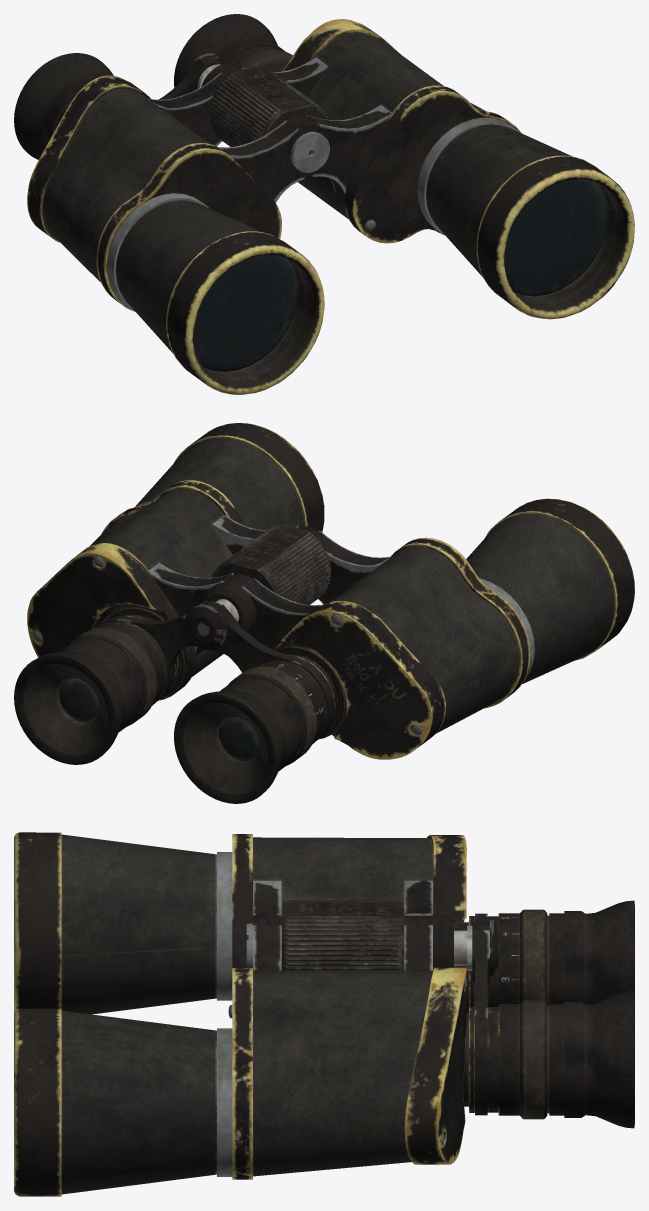
The model's file is vintage_binocular.glb.
The picture shows the model from 3 angles, top to bottom: view 1: azimuth 30°, elevation 25°; view 2: azimuth 150°, elevation 25°; view 3: azimuth 270°, elevation 25°; orthographic projection. The views are drawn at different scales.
Parts seen in each view (by area): view 1: vintage_binocular_left_lens; view 2: vintage_binocular_left_lens; view 3: vintage_binocular_left_lens.
Boxes of the visible parts, x1,y1,x2,y2 form: vintage_binocular_left_lens: (14, 14, 634, 394); vintage_binocular_left_lens: (14, 423, 634, 803); vintage_binocular_left_lens: (14, 832, 634, 1196).
Size of the model in its own units: 0.194 by 0.0684 by 0.1992.
Materials: 1 (1 with a texture image).
